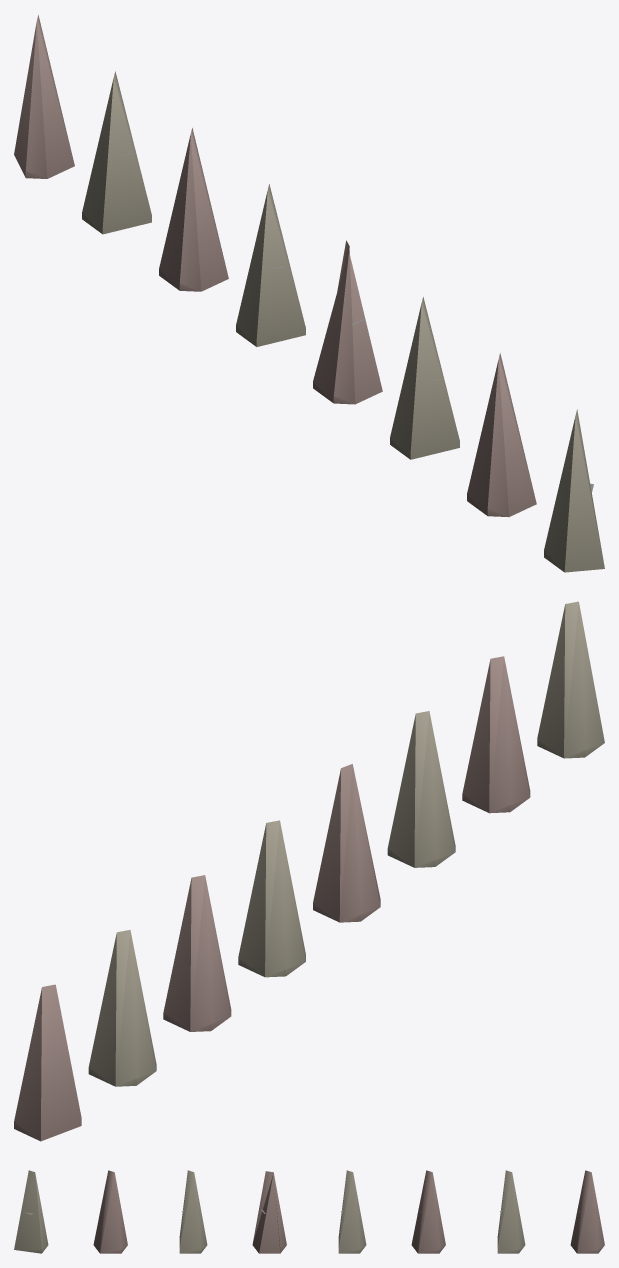
Rendered from cones.lod2.glb.
The picture shows the model from 3 angles, top to bottom: view 1: azimuth 30°, elevation 25°; view 2: azimuth 150°, elevation 25°; view 3: azimuth 270°, elevation 25°; orthographic projection. The views are drawn at different scales.
Bounding box in the file's own units: 0.2103 × 0.6 × 4.24.
